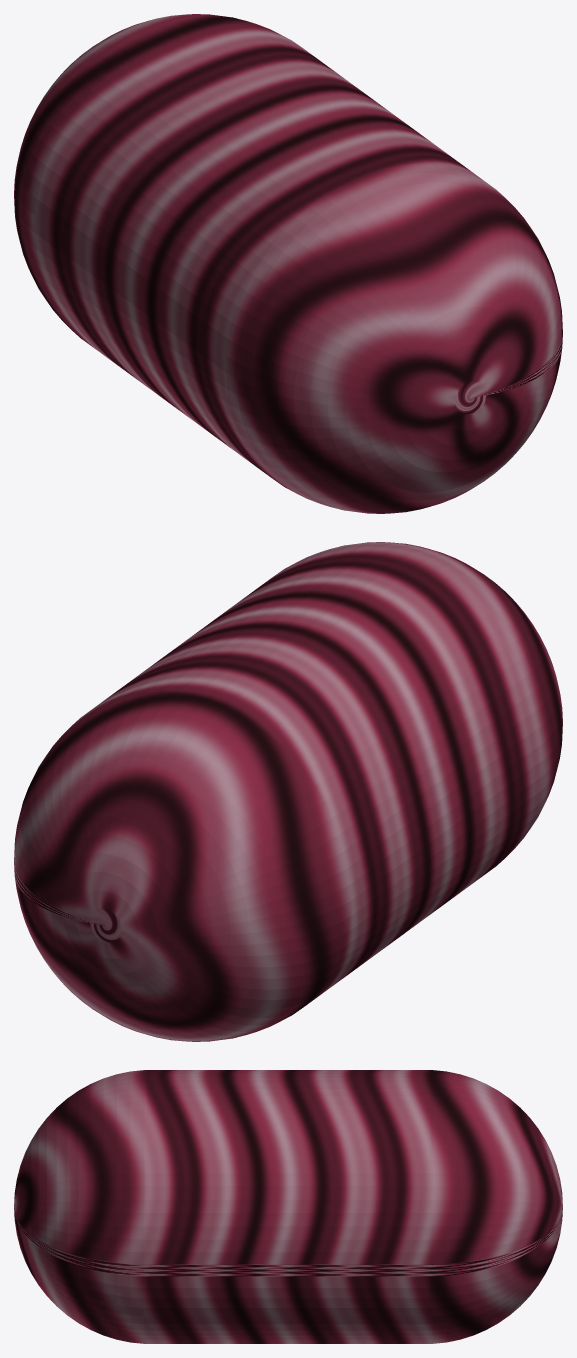
The model's file is capsule-rose.glb.
3 views of the same model, one above another, from view 1: azimuth 30°, elevation 25°; view 2: azimuth 150°, elevation 25°; view 3: azimuth 270°, elevation 25° (orthographic). The views are drawn at different scales.
Parts seen in each view (by area): view 1: world; view 2: world; view 3: world.
Part boxes in pixels (<box>): world: <box>14,14,562,513</box>; world: <box>14,542,562,1041</box>; world: <box>14,1070,562,1343</box>.
Size of the model in its own units: 0.6991 by 0.6991 by 1.4.
Materials: 1 (1 with a texture image).
